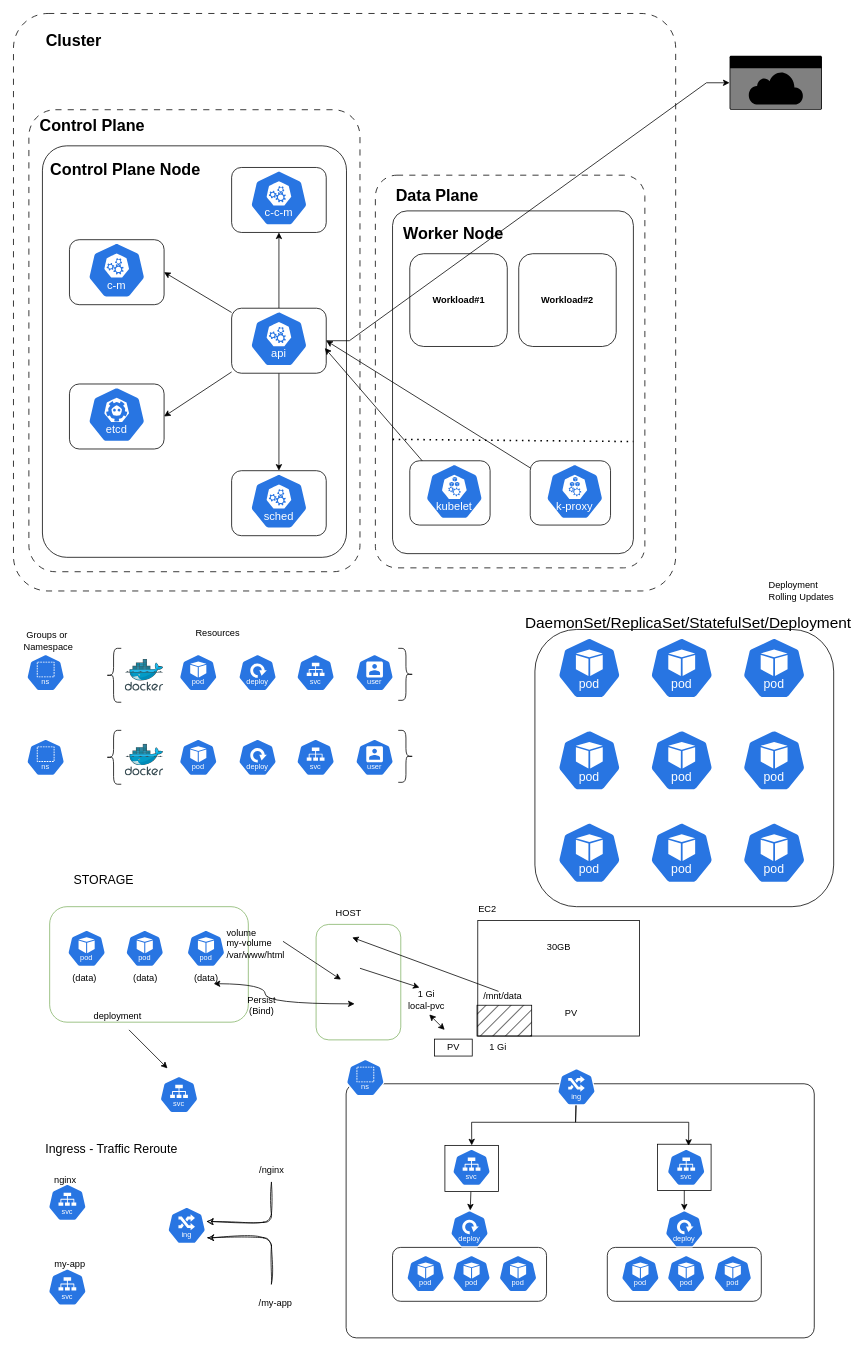
Some shapes in this 865 by 1351 pixel diagram are drawn without their labels. Each missing label, with the centre of its shape:
Cloud API: the point at 775,82
PV PVC: the point at 358,982
